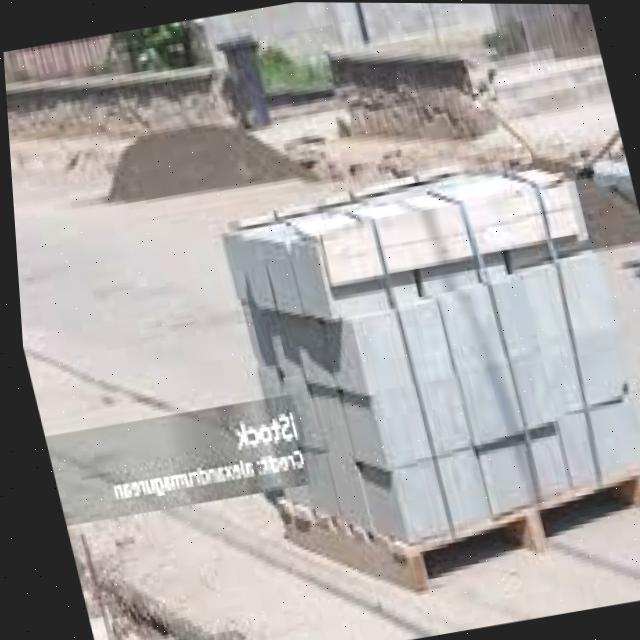bricks: (226, 168, 635, 551)
